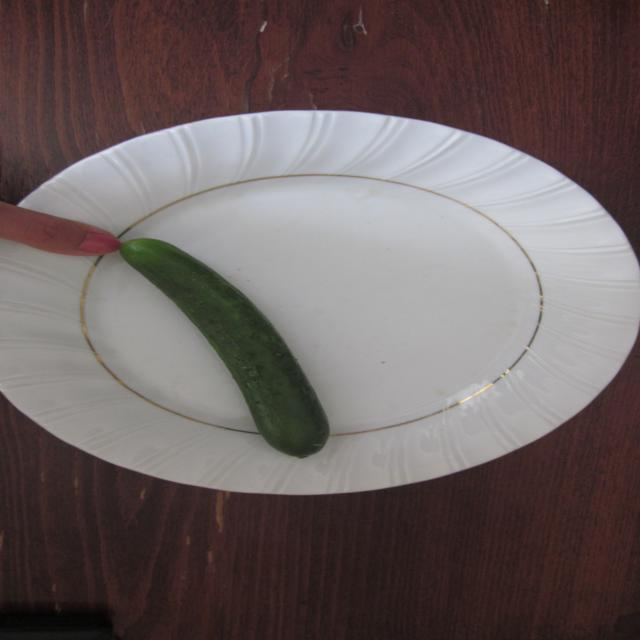cucumber: (112, 234, 394, 464)
